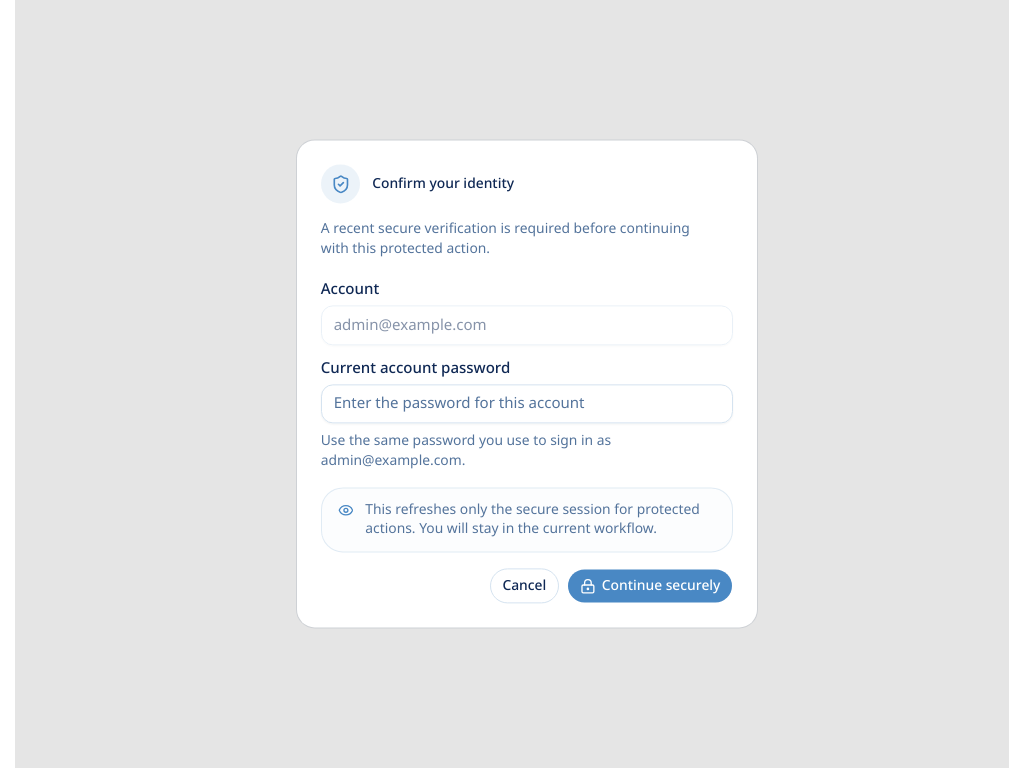
Scenario: SensitiveActionReauthDialog › blocks submit when the password is missing
Expected: the field showing "admin@example.com" is shown, [321, 306, 733, 345]
Expected: the text "Use the same password you use to sign in as admin@example.com." is shown, [321, 431, 611, 471]
Click the button "Continue securely". click: (650, 586)
box: [567, 568, 733, 604]
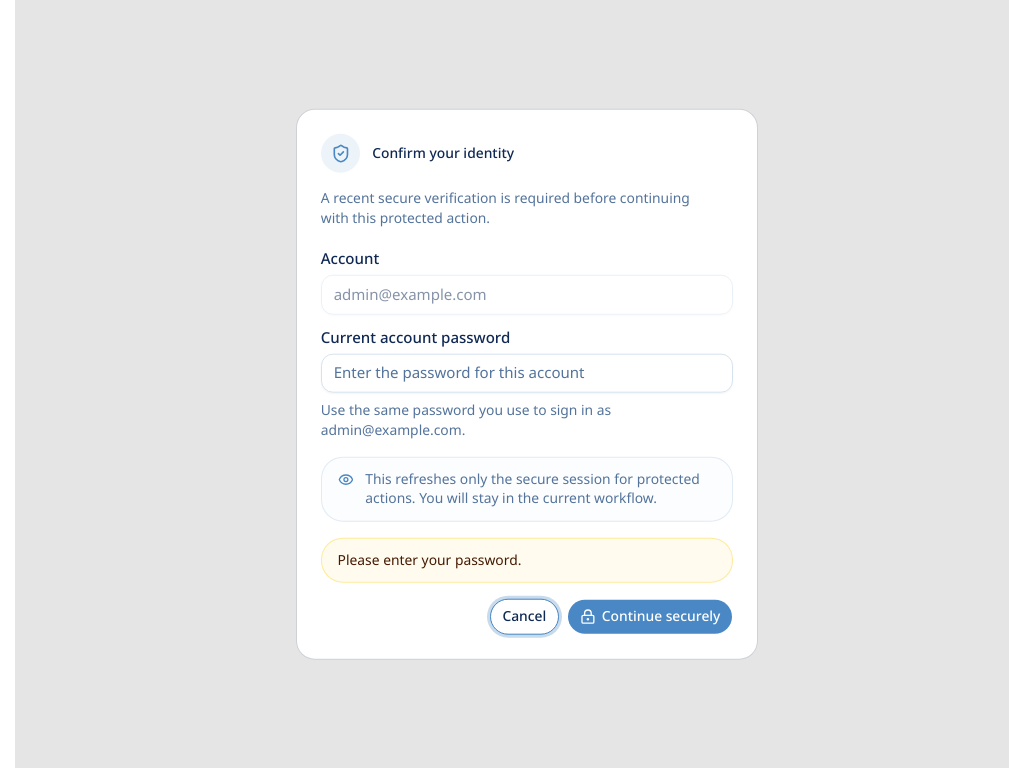
Expected: the text "Please enter your password." is shown, [321, 538, 733, 583]
